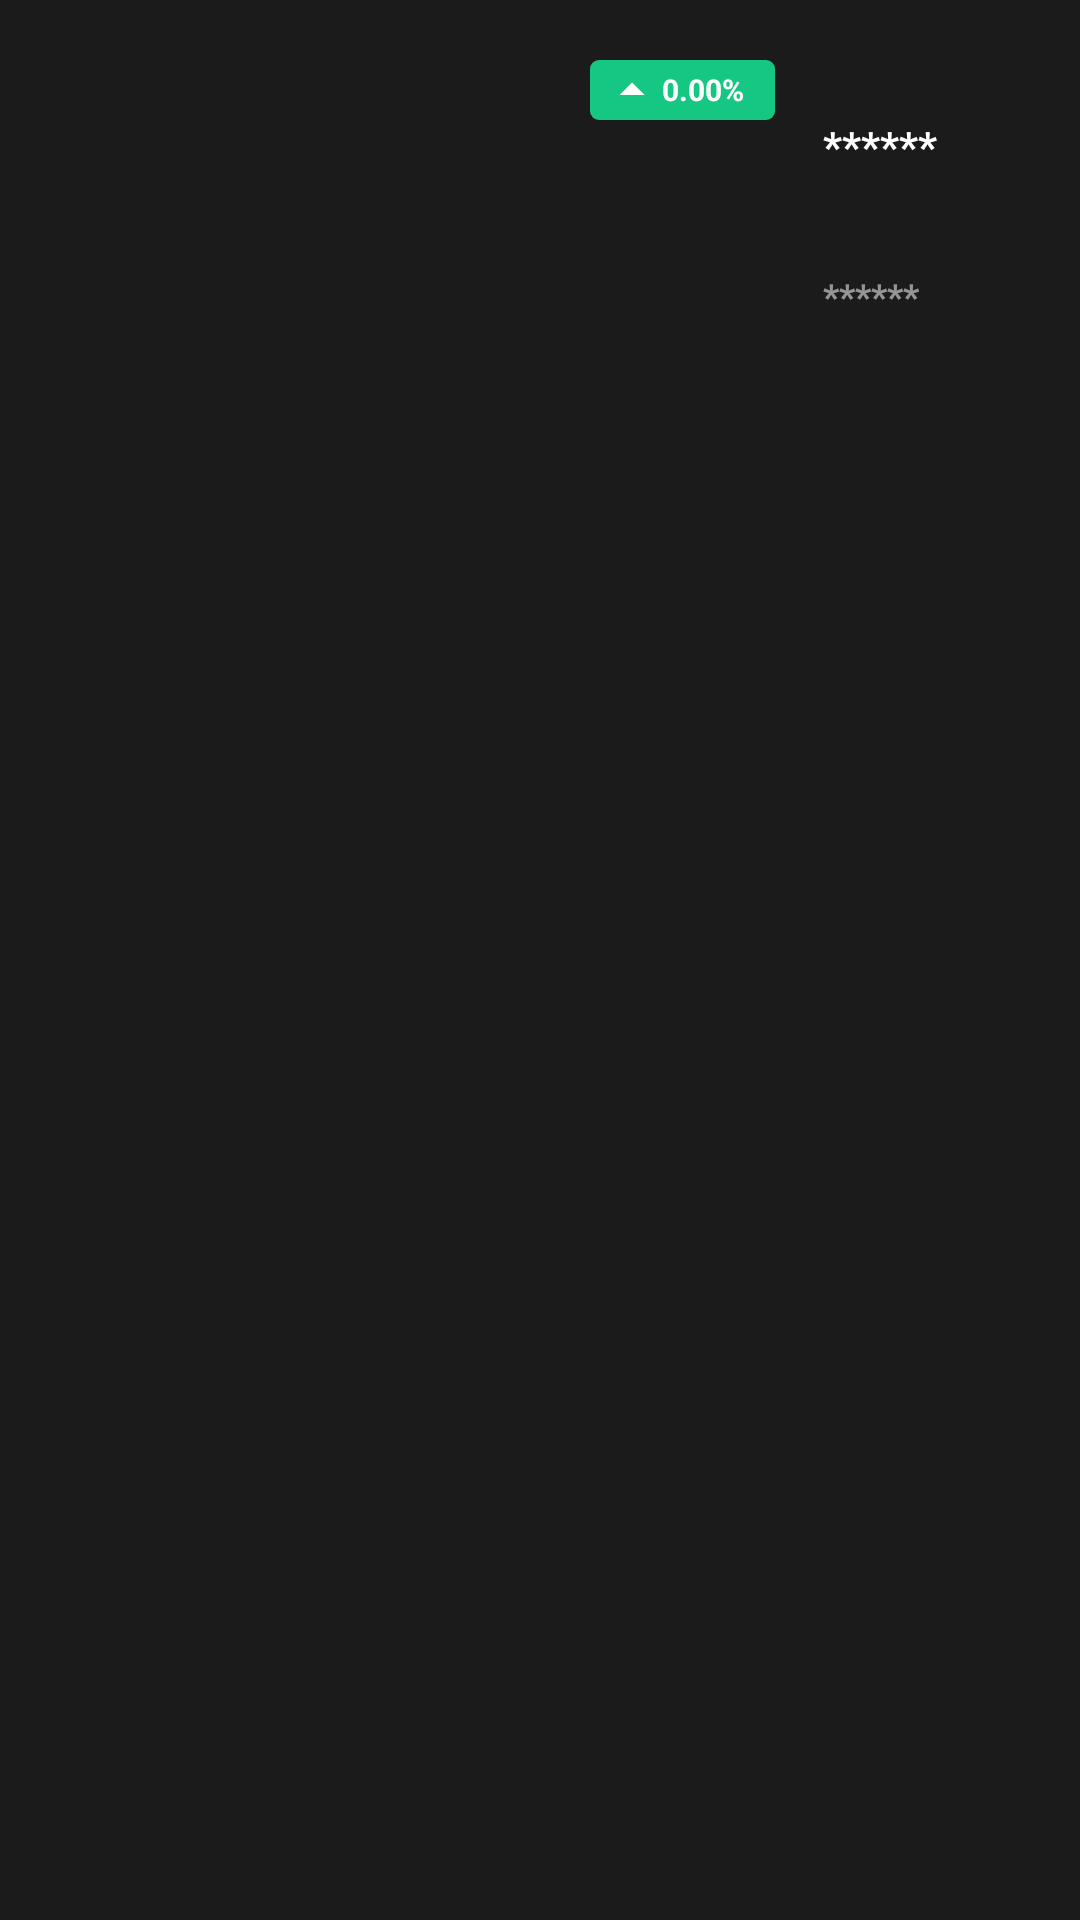

Named icons in this screenshot (1080*1920) and their centers, point (x, y):
arrow up: point (632, 88)
